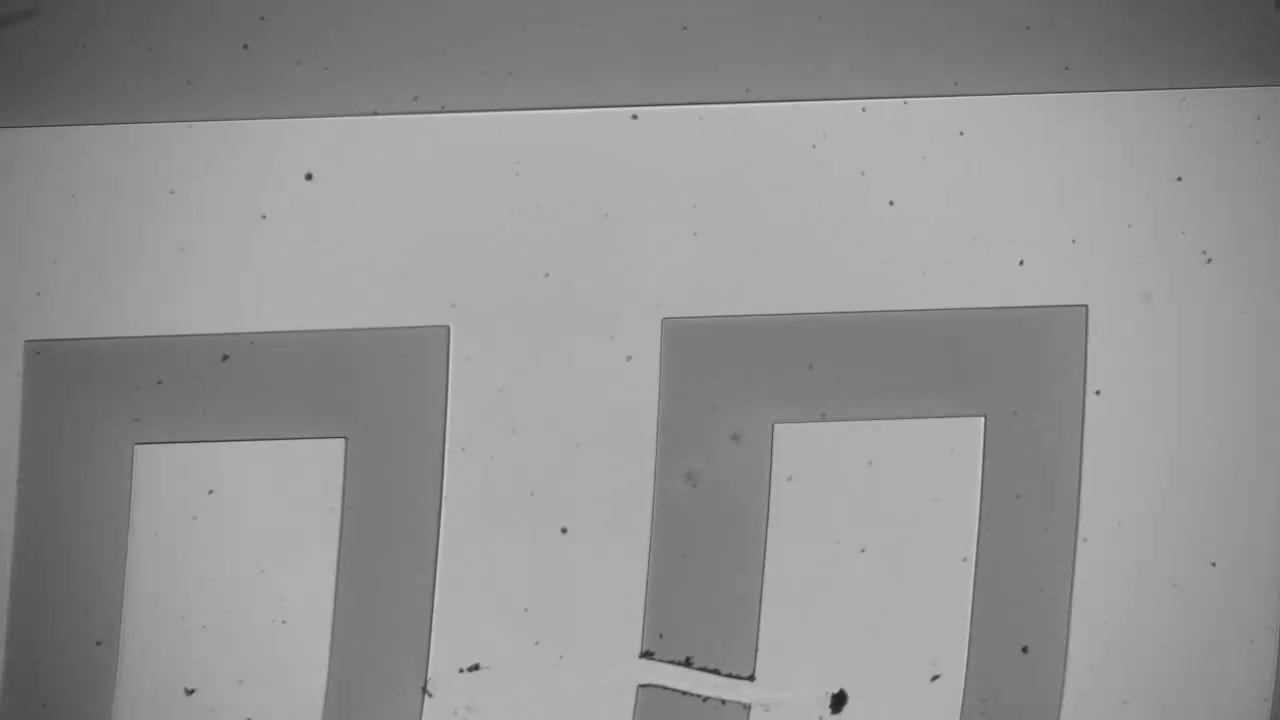Short_circuit: (609, 623, 790, 720)
